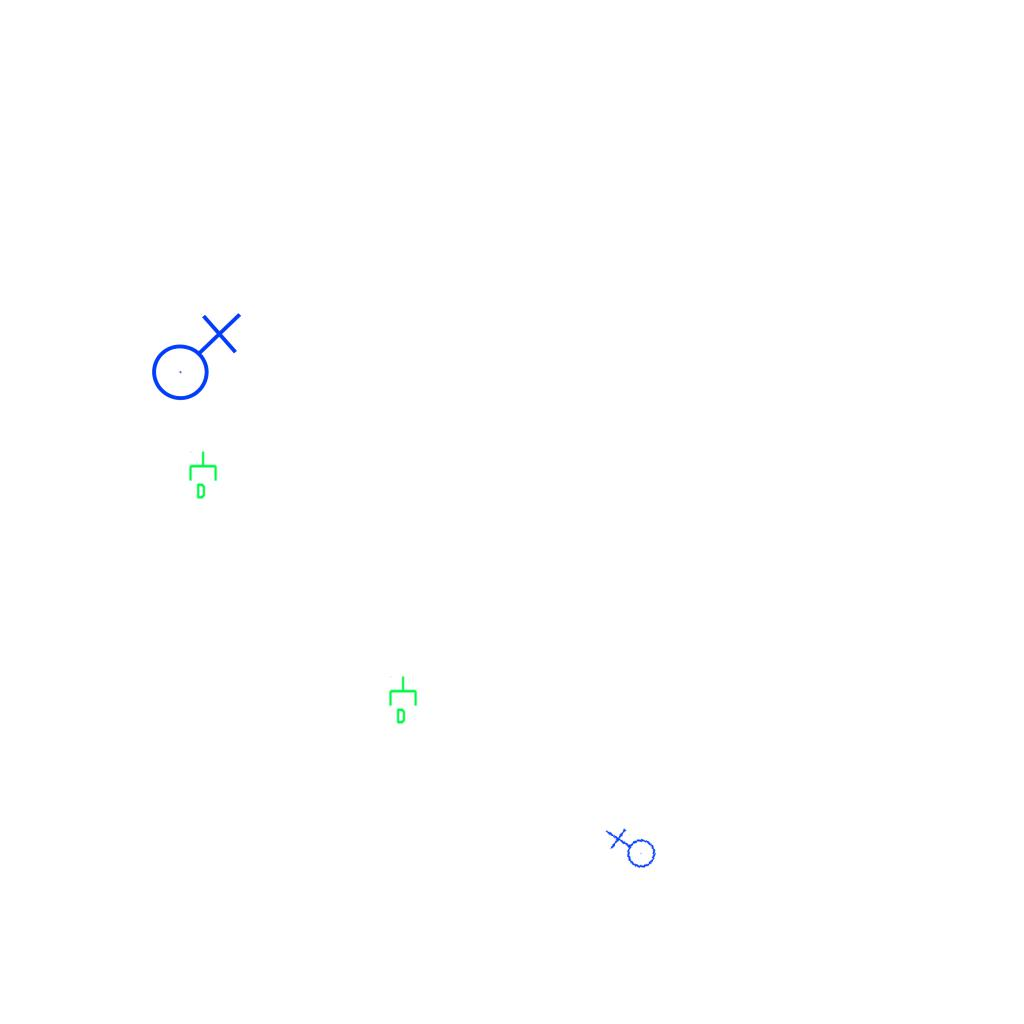Datenanschluss_einfach: (187, 450, 221, 500), (387, 675, 421, 725)
Elektroanschluss_allgemein_230V_Geraeteanschlussdose_230V: (143, 308, 242, 402), (603, 820, 660, 879)
